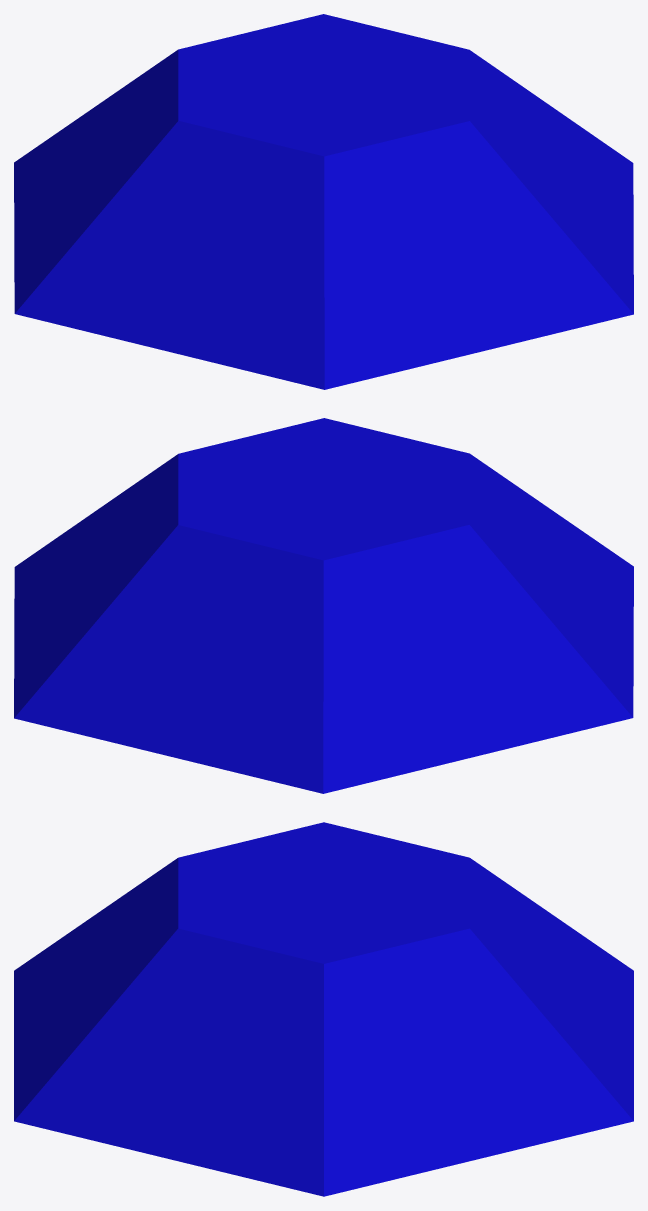
The model's file is Hexagonos.obj.
3 views of the same model, one above another, from view 1: azimuth 30°, elevation 25°; view 2: azimuth 150°, elevation 25°; view 3: azimuth 270°, elevation 25° (orthographic).
Parts seen in each view (by area): view 1: Circle_Circle.006; view 2: Circle_Circle.006; view 3: Circle_Circle.006.
Part boxes in pixels (<box>): Circle_Circle.006: <box>14,14,633,389</box>; Circle_Circle.006: <box>14,418,633,793</box>; Circle_Circle.006: <box>14,822,633,1196</box>.
Size of the model in its own units: 4.89 by 1.16 by 4.25.
